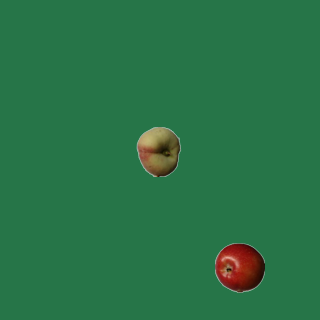Apple Braeburn: (214, 242, 264, 292)
Peach Flat: (133, 126, 183, 176)
